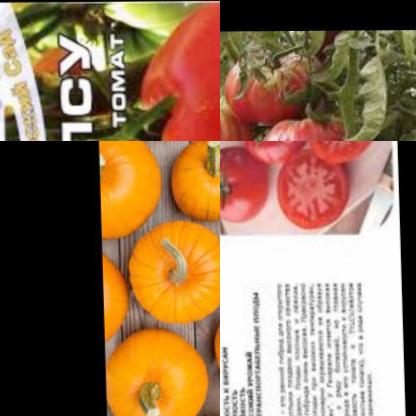pumpkin: (124, 219, 220, 327), (103, 326, 210, 416), (97, 141, 165, 242), (175, 141, 220, 222), (101, 249, 134, 340), (204, 289, 220, 403)
tomato: (120, 0, 220, 141), (220, 39, 315, 123), (270, 149, 350, 231), (220, 146, 270, 222), (255, 112, 357, 141), (220, 87, 257, 141), (302, 141, 369, 160), (236, 141, 304, 159)
